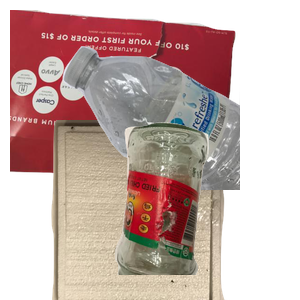glass: (112, 120, 300, 300)
paper: (10, 10, 238, 190)
plastic: (60, 44, 300, 224)
trash: (49, 120, 269, 300)
